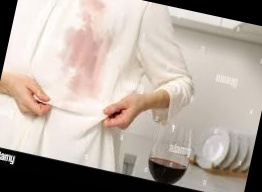wine: (53, 16, 117, 103), (74, 0, 108, 23)
